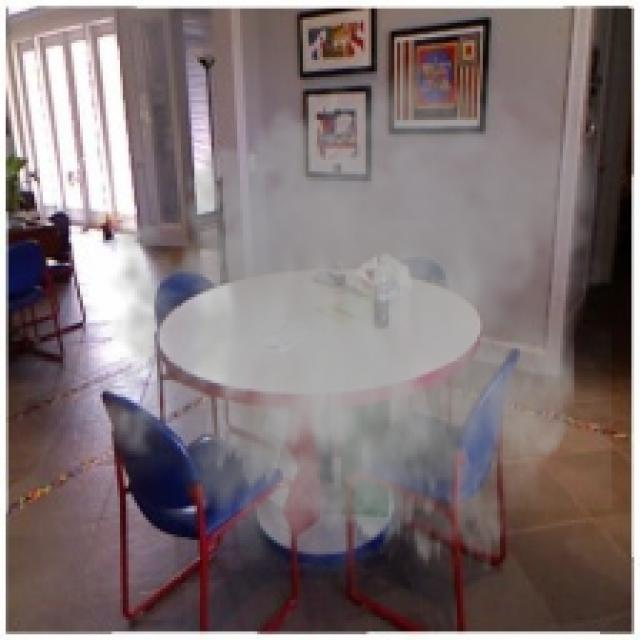Smoke: (79, 42, 612, 608)
